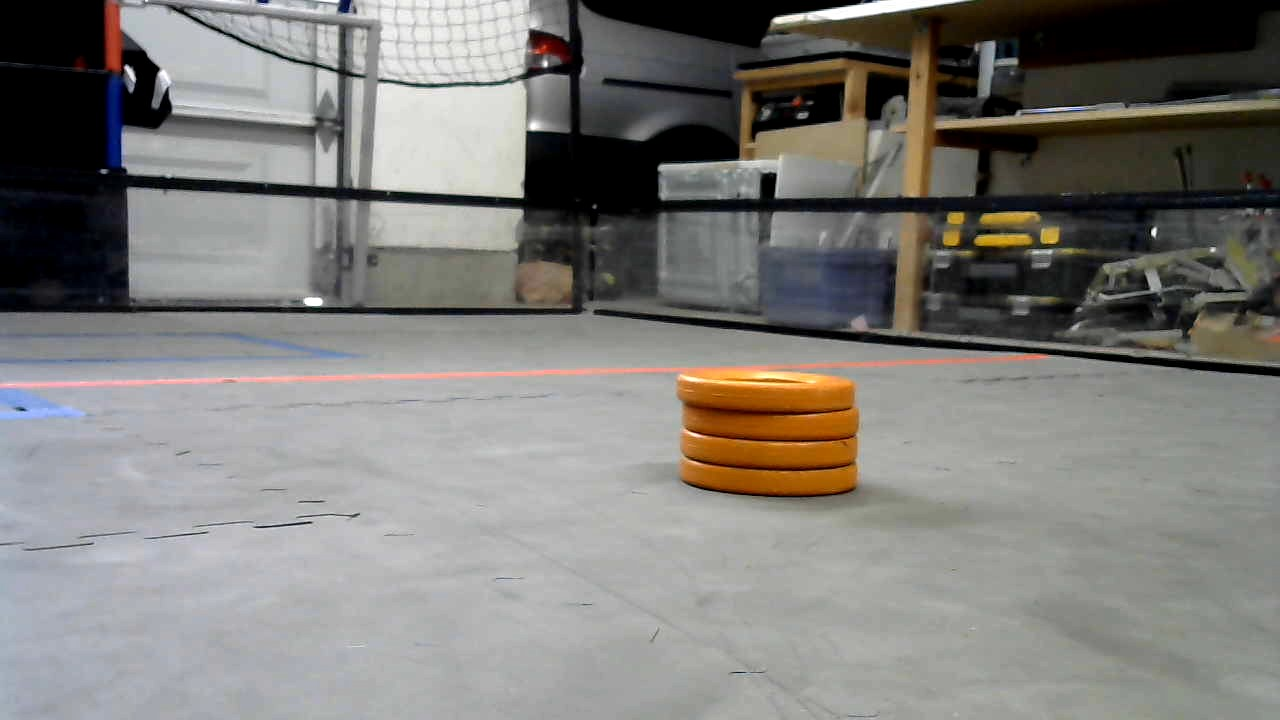FourStack: (679, 374, 859, 495)
